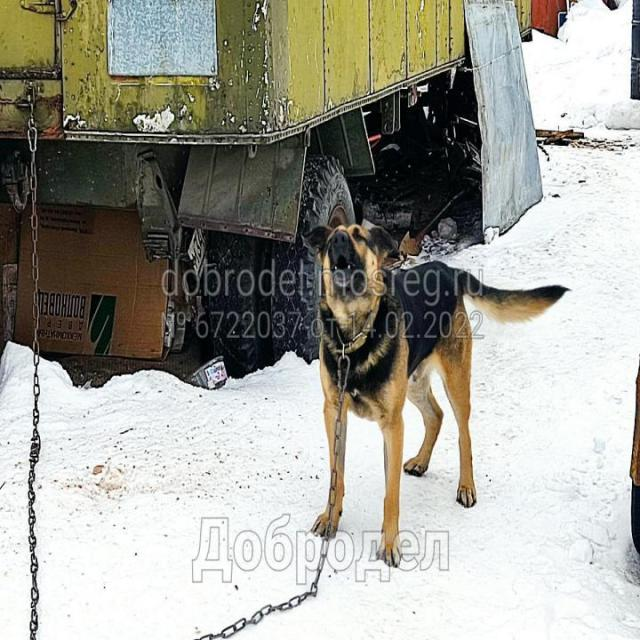dog: (307, 223, 571, 567)
